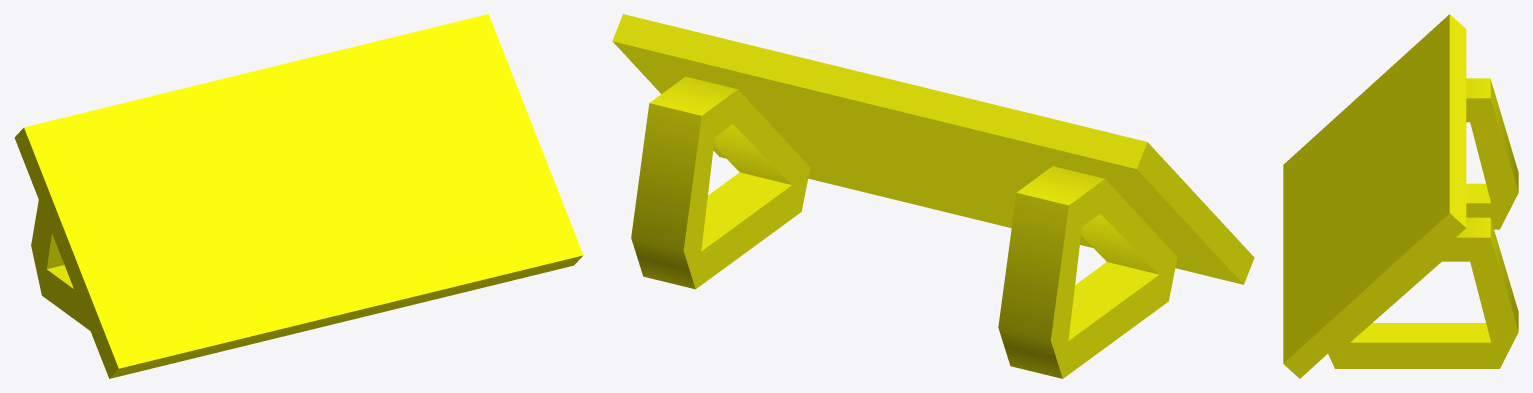
File: kaykit-solarpanel.glb
3 renders of one model, left to right at view 1: azimuth 30°, elevation 25°; view 2: azimuth 150°, elevation 25°; view 3: azimuth 270°, elevation 25°, orthographic. The views are drawn at different scales.
Parts seen in each view (by area): view 1: solarpanel; view 2: solarpanel; view 3: solarpanel.
Part boxes in pixels (bbox=[...]): solarpanel: bbox=[14, 14, 583, 378]; solarpanel: bbox=[612, 14, 1254, 378]; solarpanel: bbox=[1283, 14, 1518, 378].
Bounding box in the file's own units: 0.9 × 0.3709 × 0.4501.
